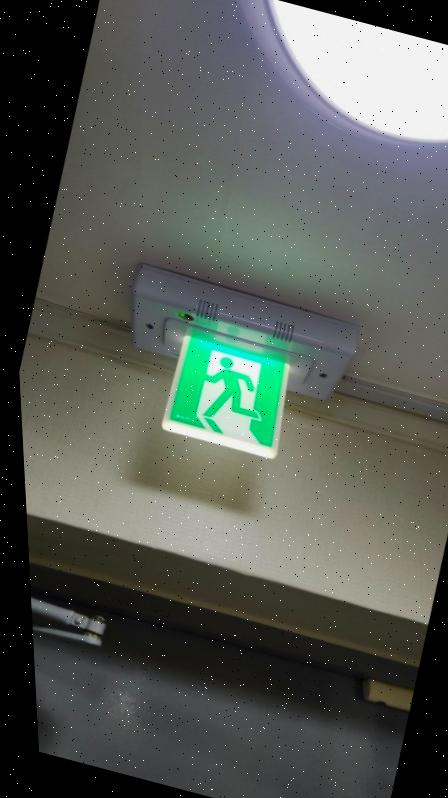emergency_exit: (160, 326, 292, 460)
